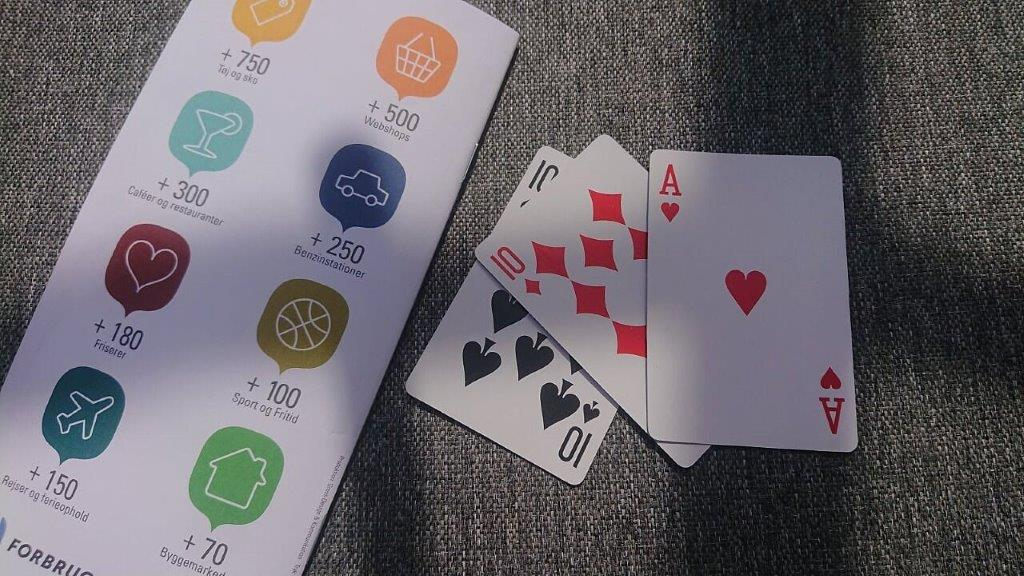10D: (487, 243, 546, 298)
AH: (655, 159, 683, 227)
